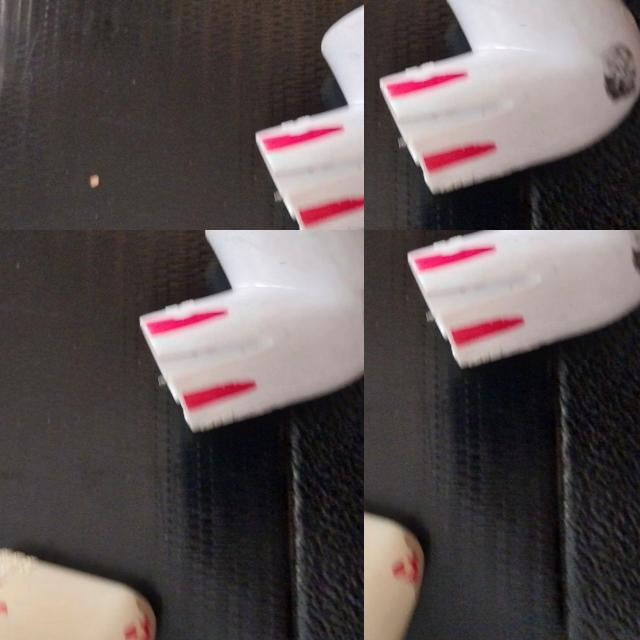Defective: (287, 423, 336, 489), (455, 314, 535, 350), (2, 503, 48, 558), (427, 248, 509, 276), (261, 501, 301, 558), (104, 528, 173, 560), (289, 475, 326, 533), (55, 591, 98, 640), (287, 426, 343, 456), (611, 230, 640, 287), (198, 360, 230, 397), (392, 554, 418, 596), (155, 372, 180, 397)
L Joint: (405, 230, 640, 372), (364, 509, 428, 640)
T Joint: (137, 356, 342, 568), (0, 480, 183, 640)
